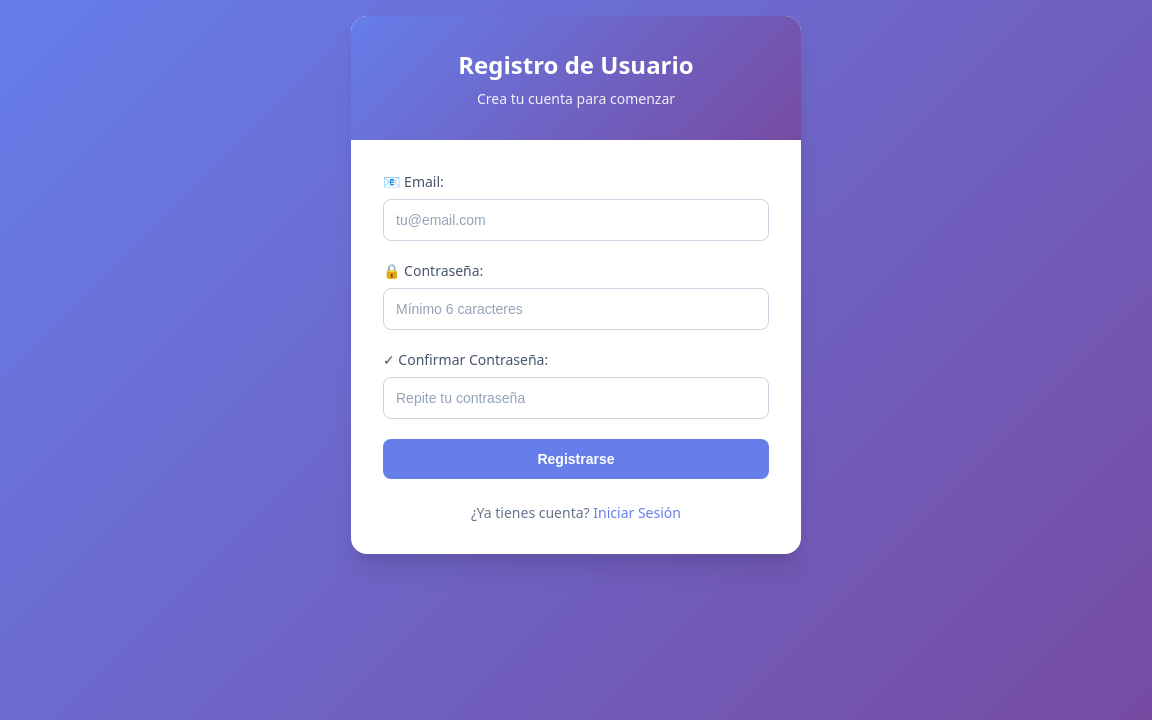
RegisterView.vue › valida que las contraseñas coincidan
The image size is (1152, 720).
Type "test@test.com" into the field with placeholder "tu@email.com". click: {"x": 576, "y": 220}
box: [383,199,769,241]
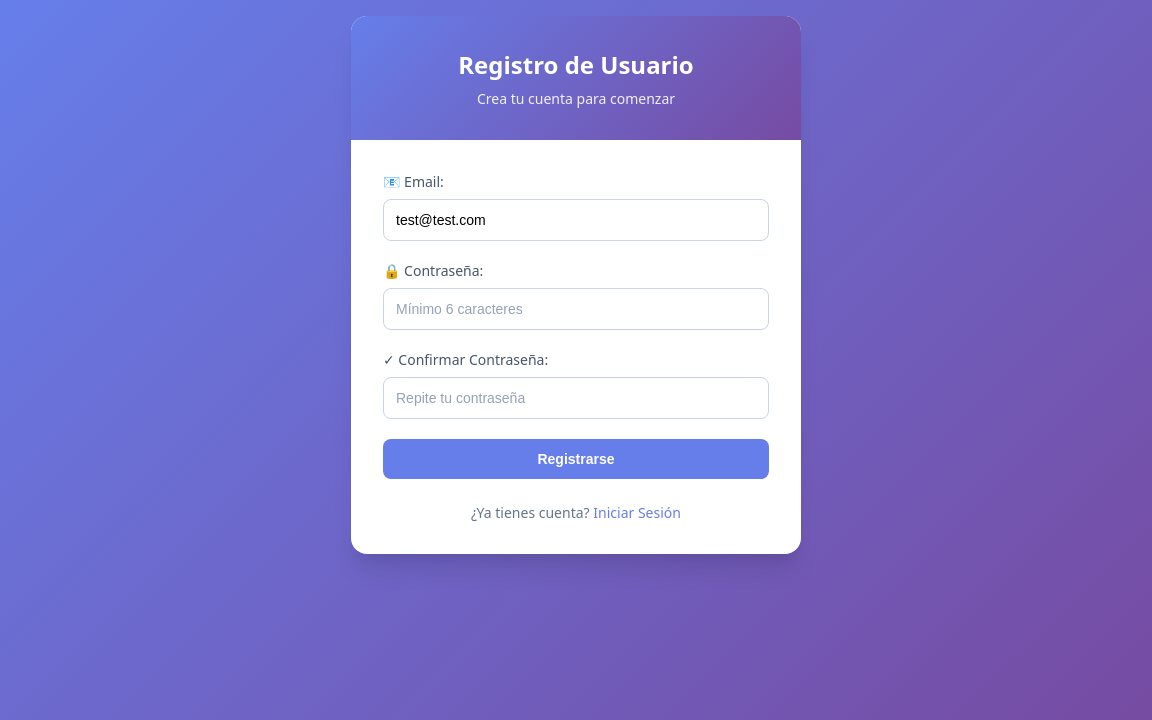
Type "123456" into the password field with placeholder "Mínimo 6 caracteres". click: {"x": 576, "y": 309}
box: [383,288,769,330]
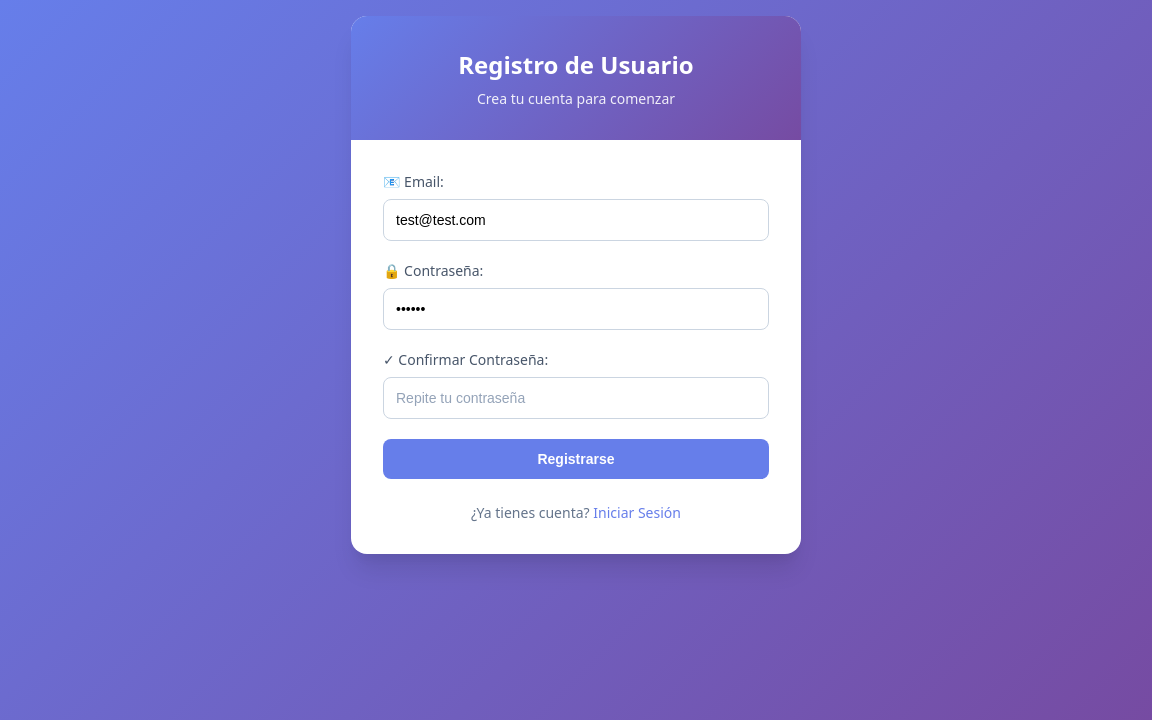
Type "654321" into the password field with placeholder "Repite tu contraseña". click: {"x": 576, "y": 398}
box: [383,377,769,419]
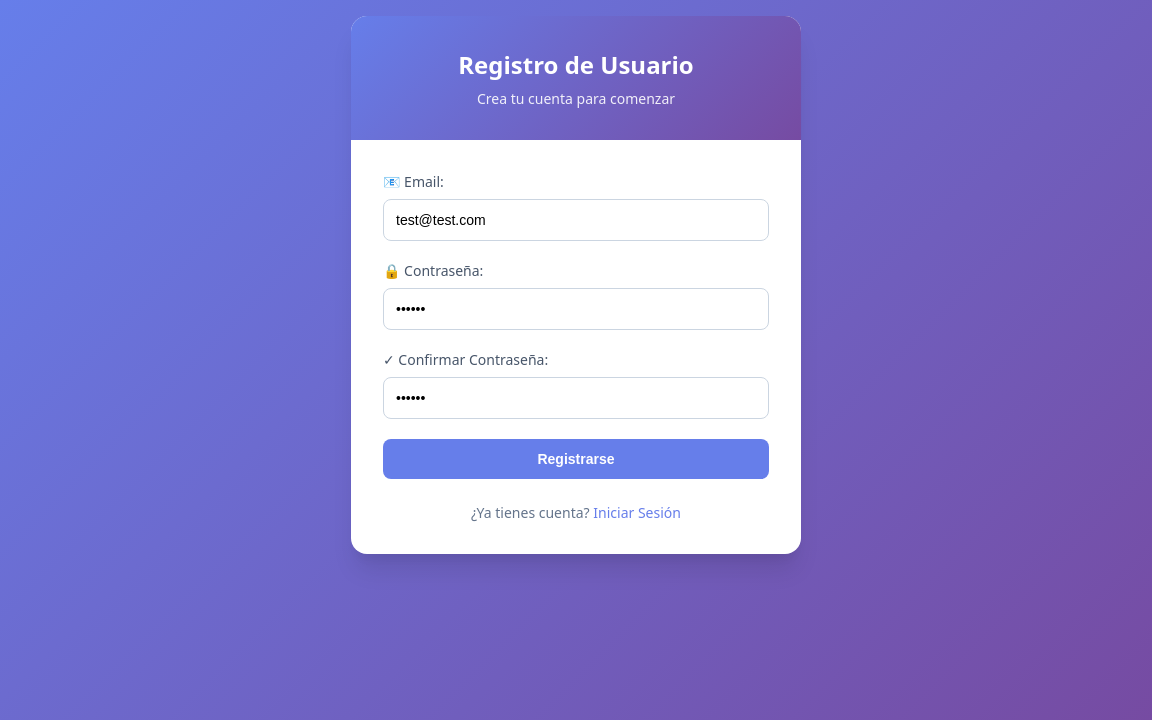
Submit the form, box [351,140,801,554]
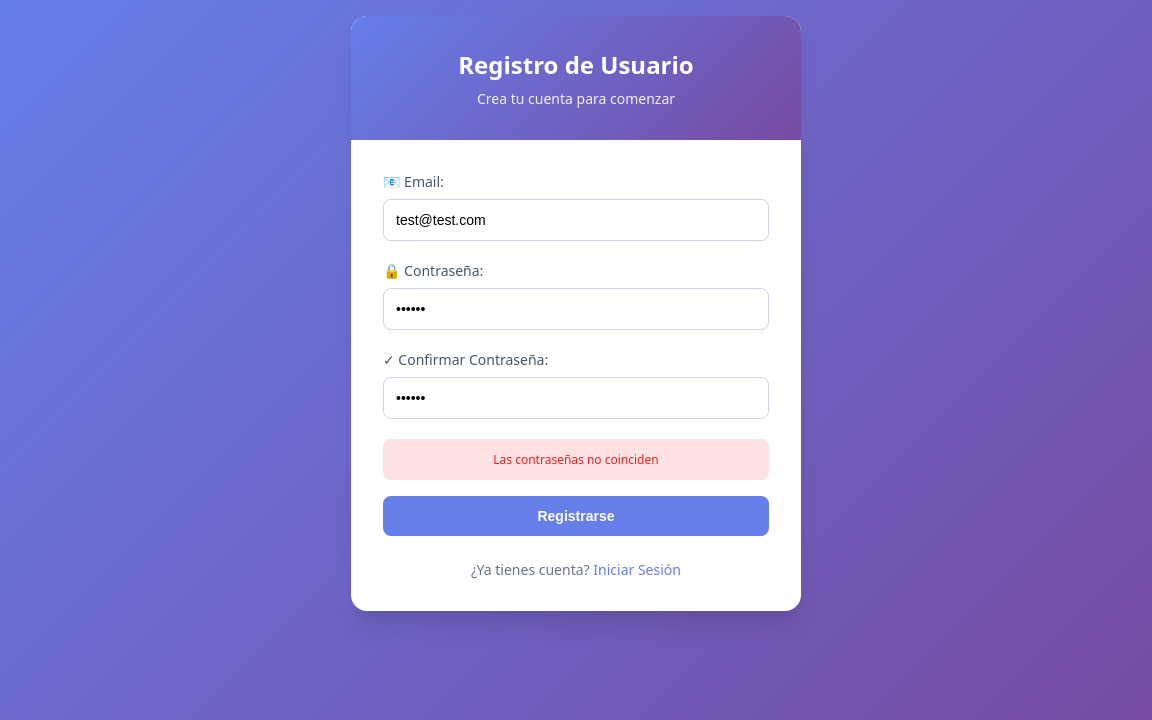
Expected: the text "Las contraseñas no coinciden" is shown, [383,439,769,480]
Expected: the text with class "error-message" reads "Las contraseñas no coinciden", [493,451,659,468]
